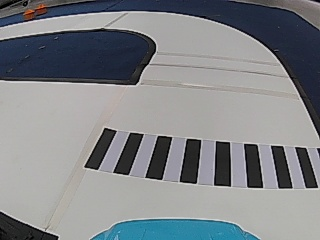CrossWalk: (85, 127, 319, 190)
